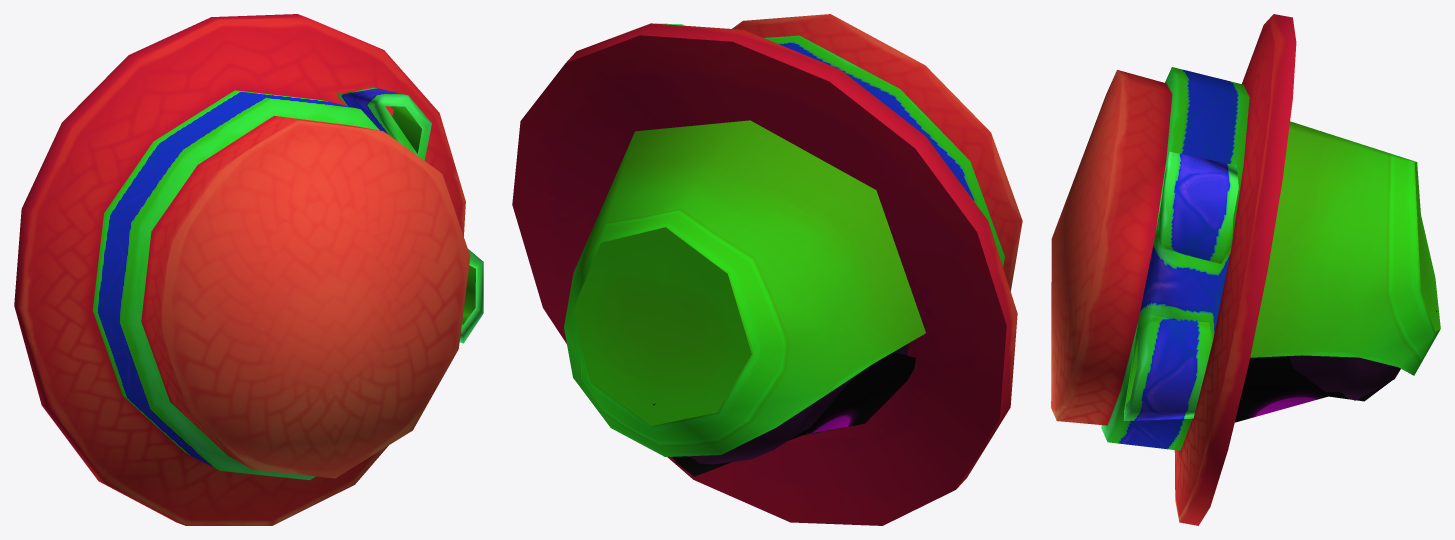
The model's file is model_boater_recolor.glb.
The picture shows the model from 3 angles, left to right: view 1: azimuth 30°, elevation 25°; view 2: azimuth 150°, elevation 25°; view 3: azimuth 270°, elevation 25°; orthographic projection. The views are drawn at different scales.
Parts seen in each view (by area): view 1: summertech.model_boater_recolor-Mesh[0]; view 2: summertech.model_boater_recolor-Mesh[0], face.part_model_face-Mesh[0]; view 3: summertech.model_boater_recolor-Mesh[0], face.part_model_face-Mesh[0].
Boxes of the visible parts, x1,y1,x2,y2 form: summertech.model_boater_recolor-Mesh[0]: (14, 14, 483, 525); summertech.model_boater_recolor-Mesh[0]: (512, 14, 1022, 525); face.part_model_face-Mesh[0]: (653, 352, 915, 476); summertech.model_boater_recolor-Mesh[0]: (1051, 14, 1440, 525); face.part_model_face-Mesh[0]: (1235, 311, 1436, 422).
Size of the model in its own units: 0.6431 by 0.6549 by 0.4971.
2 materials, 2 textured.
